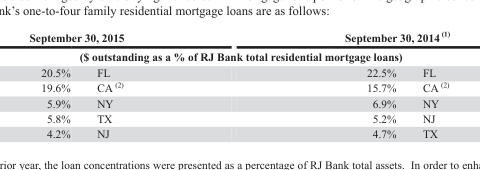table: (28, 29, 449, 139)
table column: (233, 29, 408, 139), (82, 29, 233, 139), (28, 29, 82, 139), (408, 29, 449, 139)
table column header: (28, 29, 449, 46)
table projected row header: (28, 46, 449, 64)
table row: (28, 46, 449, 64), (28, 29, 449, 46), (28, 79, 449, 95), (28, 64, 449, 79), (28, 95, 449, 110), (28, 110, 449, 125), (28, 125, 449, 139)
table spanning cell: (233, 29, 449, 46), (28, 29, 233, 46)
